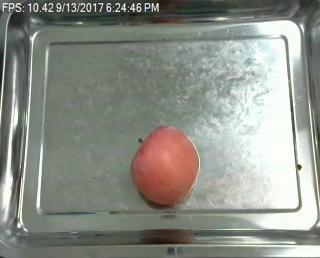apple: (131, 126, 200, 205)
